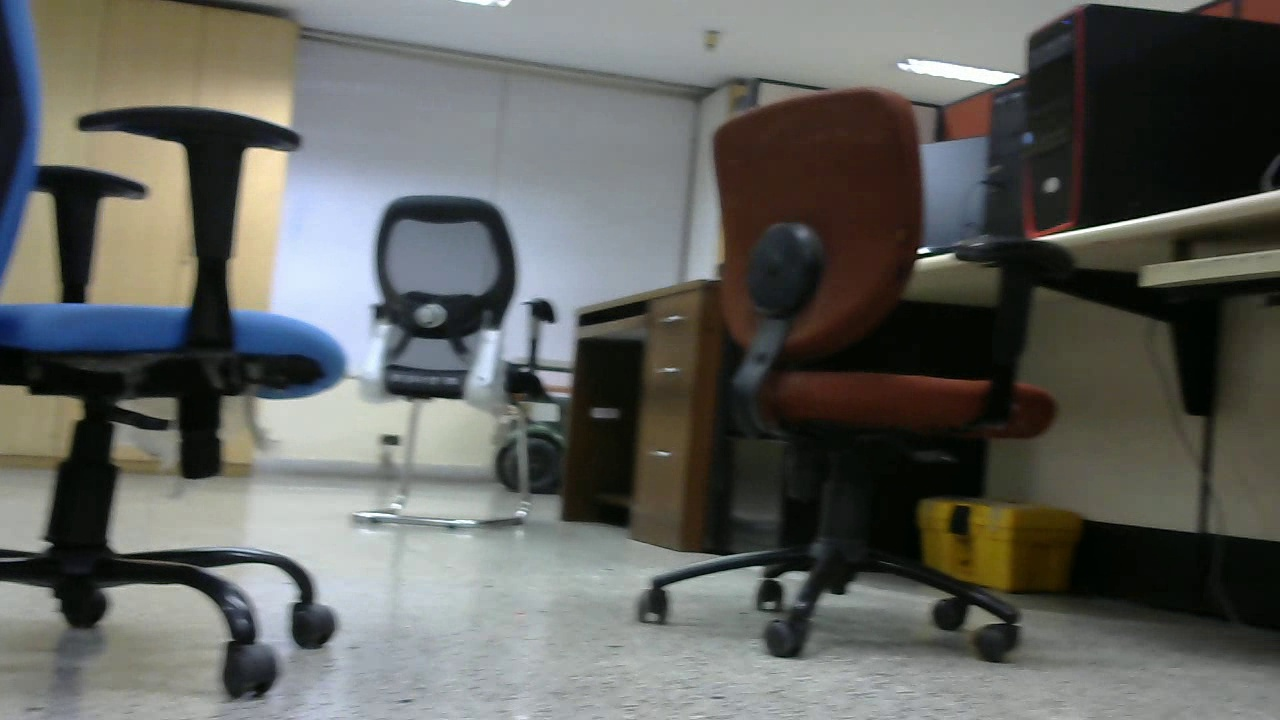chair: (640, 92, 1015, 652), (22, 34, 341, 688), (358, 182, 530, 526)
